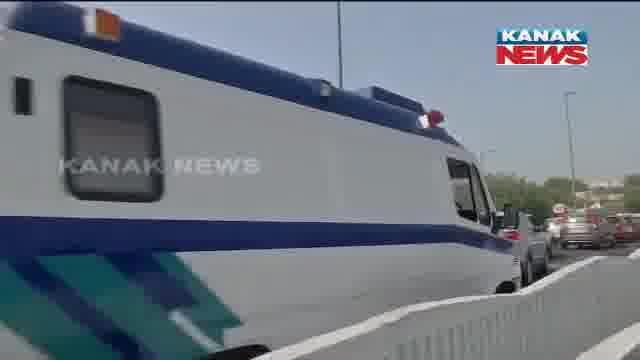AMBULANCE: (2, 4, 523, 360)
